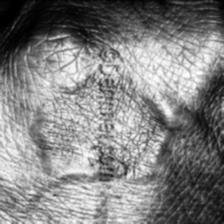Unclassified: (39, 81, 99, 198), (116, 67, 170, 184)
